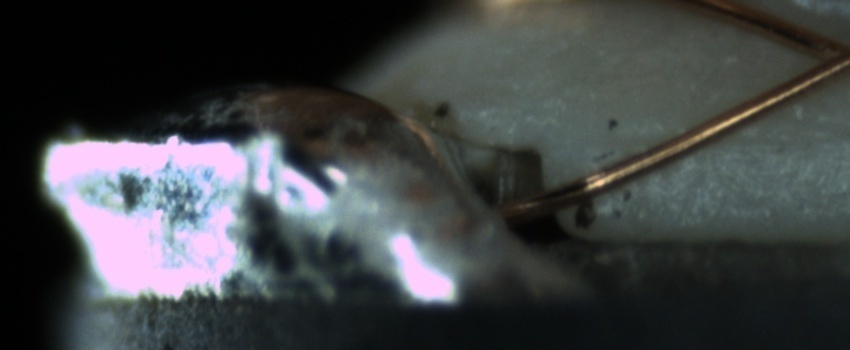CL: (782, 17, 848, 97)
DL: (628, 112, 849, 168)
